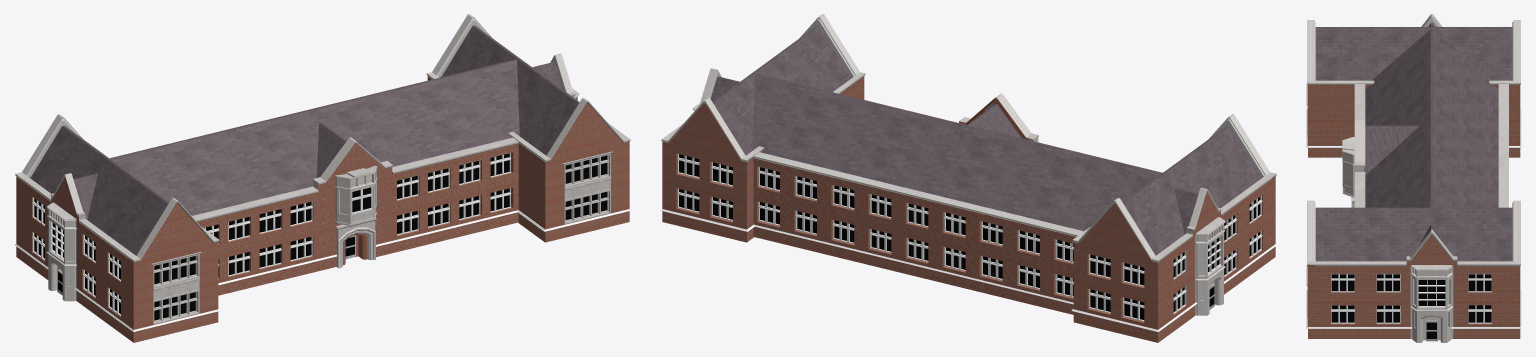
Rendered from weber hall.glb.
The picture shows the model from 3 angles, left to right: view 1: azimuth 30°, elevation 25°; view 2: azimuth 150°, elevation 25°; view 3: azimuth 270°, elevation 25°; orthographic projection. The views are drawn at different scales.
Parts seen in each view (by area): view 1: 主体屋顶, 侧楼, 主楼, 侧楼屋顶, 烦人窗户, 立方体.001, 立方体, 主体凸起, 侧边凸起, 侧楼小屋顶, 主体大门, 主楼小屋顶 (+2 smaller); view 2: 主体屋顶, 侧楼, 主楼, 侧楼屋顶, 立方体.004, 立方体.002, 侧边凸起, 立方体.003, 立方体.005, 侧楼小屋顶, 分段线, 主楼小屋顶 (+1 smaller); view 3: 主体屋顶, 侧楼, 侧楼屋顶, 主楼, 侧边凸起, 主楼小屋顶, 侧面凸起窗, 主体凸起, 分段线.001, 立方体.008, 立方体.009, 立方体.006 (+5 smaller).
Boxes of the visible parts, x1,y1,x2,y2 form: 主体屋顶: [110, 59, 519, 215]; 侧楼: [15, 14, 630, 342]; 主楼: [192, 137, 518, 295]; 侧楼屋顶: [30, 25, 579, 255]; 烦人窗户: [151, 151, 612, 324]; 立方体.001: [203, 153, 511, 243]; 立方体: [218, 188, 511, 278]; 主体凸起: [334, 165, 377, 225]; 侧边凸起: [46, 88, 579, 301]; 侧楼小屋顶: [73, 62, 562, 219]; 主体大门: [335, 217, 376, 268]; 主楼小屋顶: [316, 122, 346, 177]; 主体屋顶: [752, 73, 1162, 231]; 侧楼: [661, 14, 1276, 342]; 主楼: [753, 93, 1083, 314]; 侧楼屋顶: [712, 25, 1261, 255]; 立方体.004: [758, 167, 1073, 262]; 立方体.002: [758, 202, 1073, 297]; 侧边凸起: [692, 103, 1225, 315]; 立方体.003: [677, 188, 1144, 321]; 立方体.005: [677, 154, 1144, 286]; 侧楼小屋顶: [710, 76, 1198, 234]; 分段线: [754, 224, 1073, 304]; 主楼小屋顶: [968, 104, 1021, 138]; 主体屋顶: [1365, 29, 1498, 207]; 侧楼: [1307, 14, 1520, 338]; 侧楼屋顶: [1315, 27, 1512, 262]; 主楼: [1354, 84, 1508, 207]; 侧边凸起: [1410, 265, 1453, 342]; 主楼小屋顶: [1364, 125, 1419, 175]; 侧面凸起窗: [1418, 280, 1445, 307]; 主体凸起: [1342, 137, 1355, 197]; 分段线.001: [1306, 108, 1521, 328]; 立方体.008: [1376, 274, 1400, 292]; 立方体.009: [1376, 305, 1400, 323]; 立方体.006: [1468, 305, 1491, 323].
Size of the model in its own units: 6.39 by 1.56 by 2.56.
19 materials, 3 textured.
